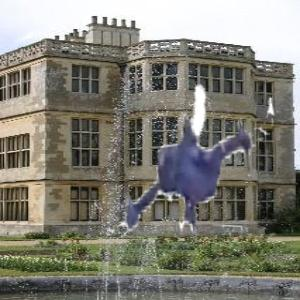drone: (90, 58, 295, 263)
